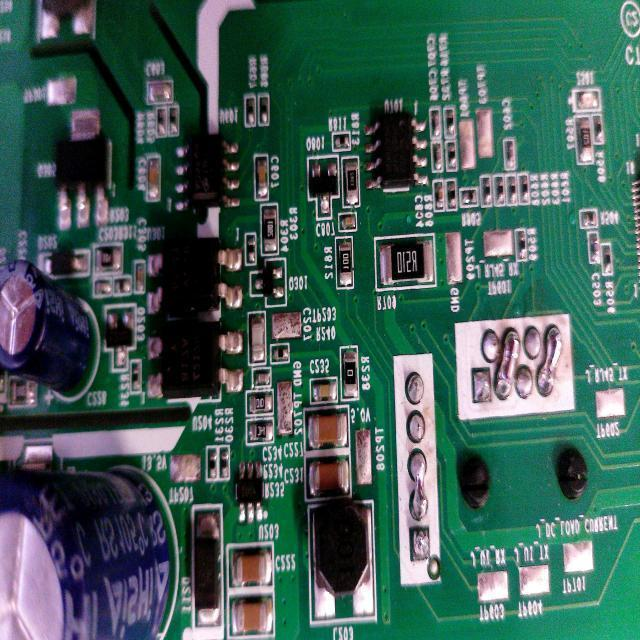Soldering shorted: (537, 322, 563, 415), (494, 322, 522, 405), (408, 450, 430, 522)
